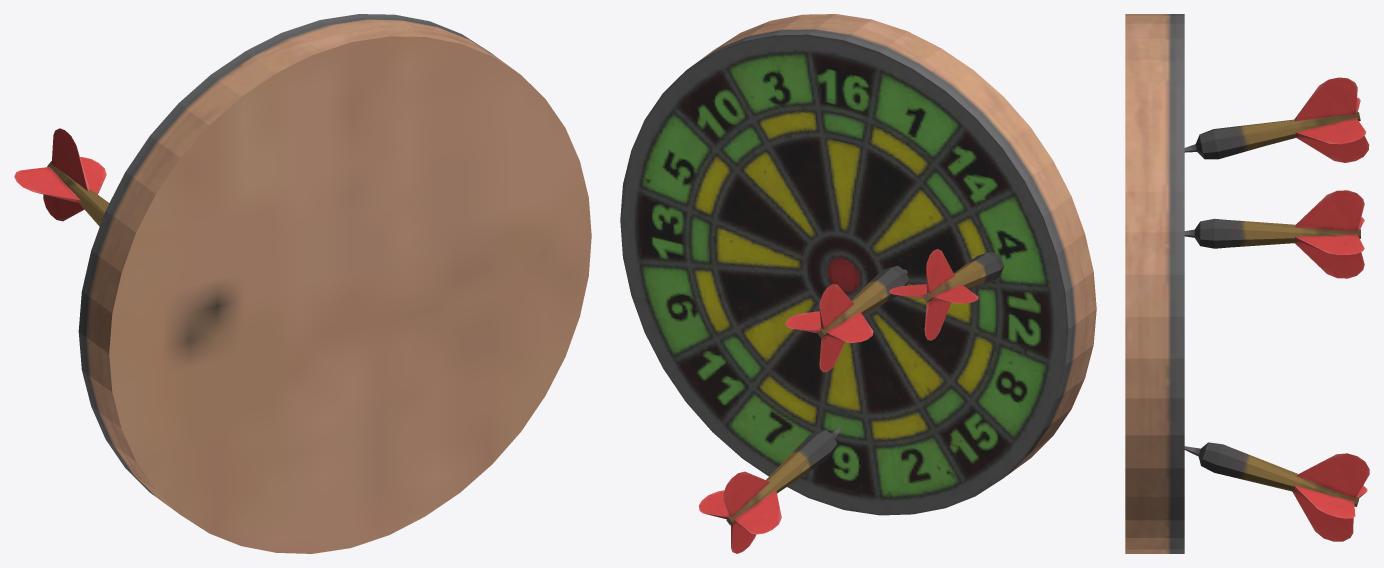
The model's file is P_Appliance_00126.obj.
The picture shows the model from 3 angles, left to right: view 1: azimuth 30°, elevation 25°; view 2: azimuth 150°, elevation 25°; view 3: azimuth 270°, elevation 25°; orthographic projection. The views are drawn at different scales.
Bounding box in the file's own units: 0.6329 × 0.634 × 0.2858.
1 material, 1 textured.
